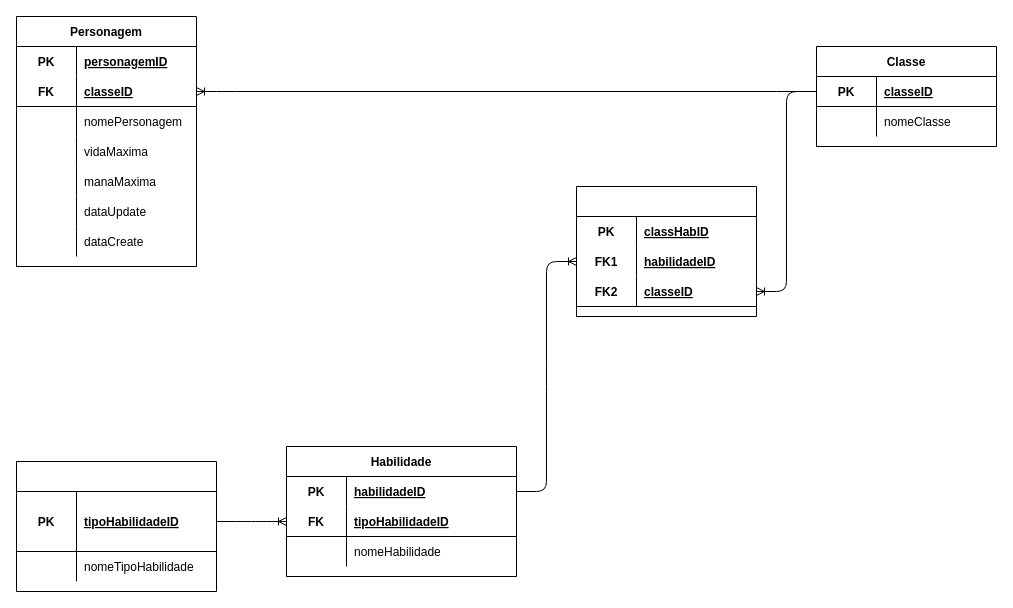
This 1013x608 diagram has some shape labels left out. The shapes that lost their labels are listed below. From the top down, each one's box as (x1, y1, x2, y2) in pixels, then its label:
(576, 186, 756, 316): Classe-Habilidade
(16, 460, 216, 592): Tipo de Habilidade
